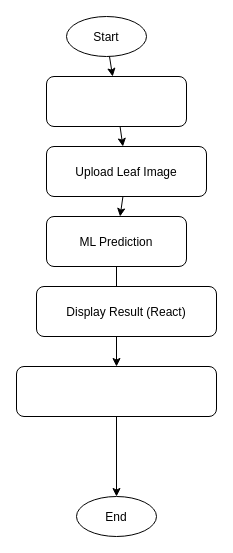
Some shapes in this 233 by 553 pixel diagram are drawn without their labels. Each missing label, with the centre of its shape:
"Login / Register" belongs at pixel 116 101.
"Store Result in MongoDB" belongs at pixel 116 391.
